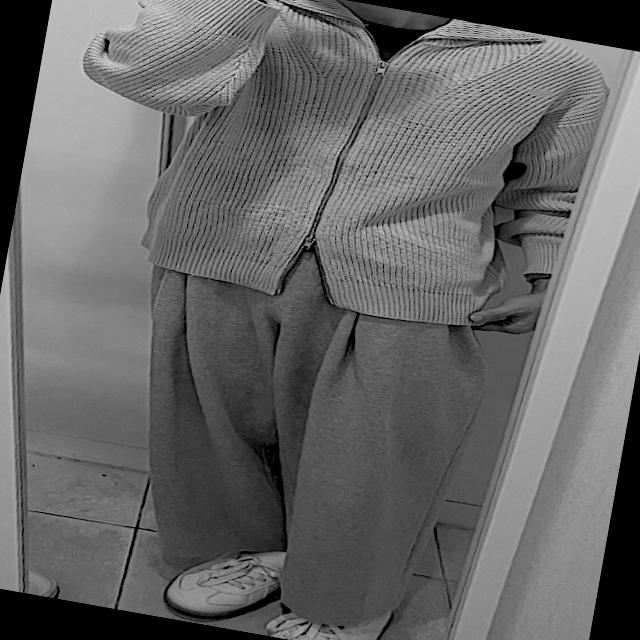cardigan: (49, 0, 611, 350)
trainingpants: (100, 220, 496, 640)
